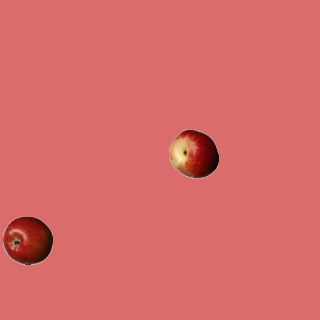Apple Braeburn: (2, 215, 52, 265)
Nectarine: (168, 128, 218, 178)
